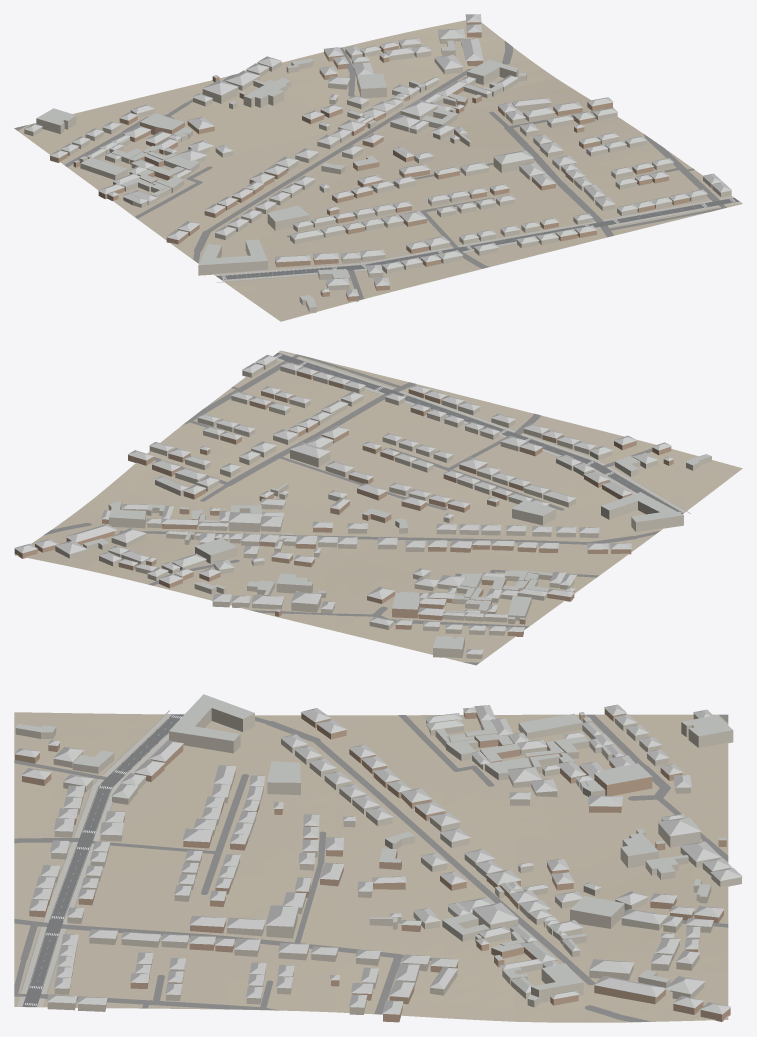
Rendered from bolak_1_2.glb.
3 renders of one model, top to bottom at view 1: azimuth 30°, elevation 25°; view 2: azimuth 150°, elevation 25°; view 3: azimuth 270°, elevation 25°, orthographic. The views are drawn at different scales.
Visible parts, largest first — view 1: Yer_Tuproq-col, Tom_Shifer, Devor_Suvoq-col, Devor_Gisht-col, Yol_Mahalla-col, Yol_Asfalt-col, Trotuar, Ariq; view 2: Yer_Tuproq-col, Tom_Shifer, Devor_Suvoq-col, Devor_Gisht-col, Yol_Mahalla-col, Yol_Asfalt-col, Trotuar; view 3: Yer_Tuproq-col, Tom_Shifer, Devor_Suvoq-col, Yol_Mahalla-col, Devor_Gisht-col, Yol_Asfalt-col, Trotuar, Yol_Chiziq, Ariq.
Boxes of the visible parts, x1,y1,x2,y2 form: Yer_Tuproq-col: (15,20,742,321); Tom_Shifer: (24,14,731,307); Devor_Suvoq-col: (24,34,731,312); Devor_Gisht-col: (50,22,689,301); Yol_Mahalla-col: (14,41,726,300); Yol_Asfalt-col: (216,198,739,279); Trotuar: (214,196,741,281); Ariq: (213,200,716,282); Yer_Tuproq-col: (14,350,742,664); Tom_Shifer: (14,354,711,654); Devor_Suvoq-col: (55,358,711,658); Devor_Gisht-col: (14,371,673,636); Yol_Mahalla-col: (43,354,659,665); Yol_Asfalt-col: (273,352,683,514); Trotuar: (277,351,685,512); Yer_Tuproq-col: (14,712,728,1022); Tom_Shifer: (14,694,742,1014); Devor_Suvoq-col: (15,708,741,1014); Yol_Mahalla-col: (14,714,728,1022); Devor_Gisht-col: (15,709,730,1022); Yol_Asfalt-col: (22,714,184,1006); Trotuar: (17,714,171,1006); Yol_Chiziq: (25,715,181,1005); Ariq: (21,710,169,992).
Size of what is drawn, in the model's own units: 418 by 17.02 by 408.
